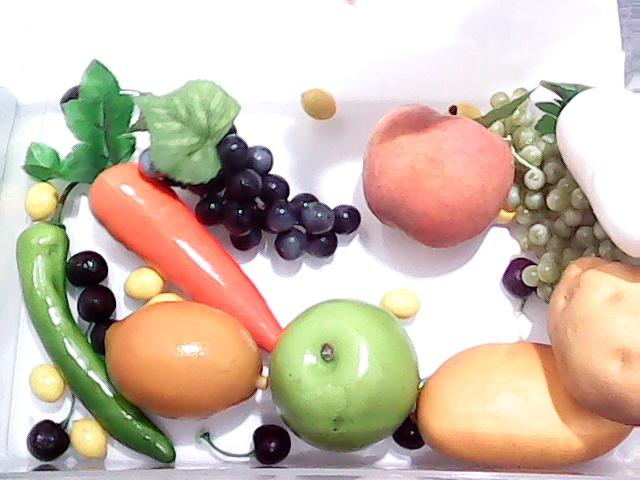apple: (264, 290, 424, 450)
carrot: (22, 58, 286, 352)
grape: (180, 126, 366, 262), (504, 90, 608, 268)
lemon: (80, 295, 276, 425)
mango: (416, 342, 640, 468)
peach: (359, 100, 517, 252)
pepper: (14, 175, 186, 465)
potato: (547, 256, 640, 428)
radish: (532, 76, 640, 256)
